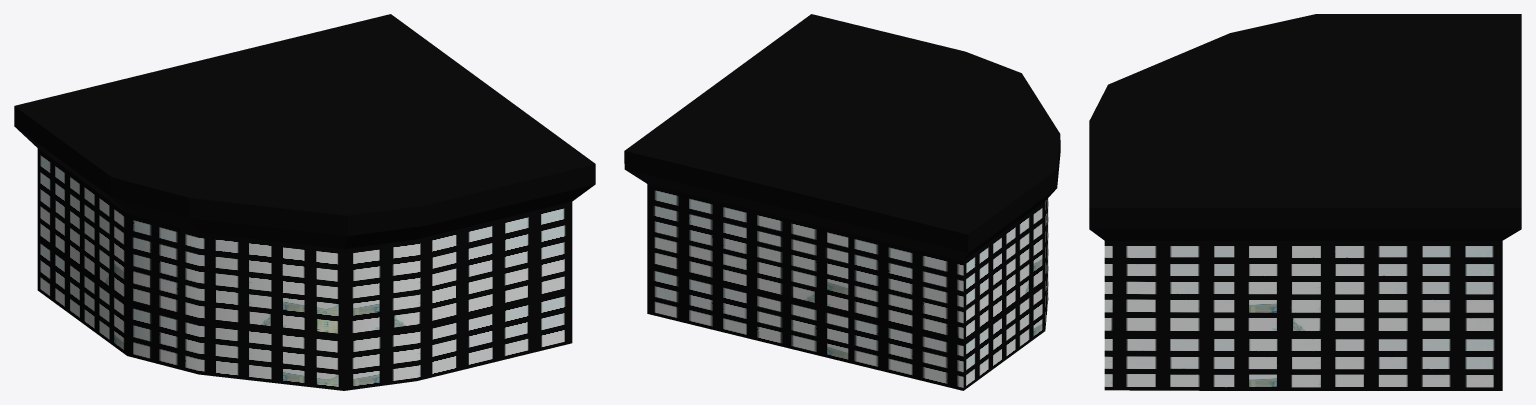
Rendered from building29.FBX.
3 renders of one model, left to right at view 1: azimuth 30°, elevation 25°; view 2: azimuth 150°, elevation 25°; view 3: azimuth 270°, elevation 25°, orthographic. The views are drawn at different scales.
Visible parts, largest first — view 1: Box003; view 2: Box003; view 3: Box003.
Part boxes in pixels (bbox=[...]): Box003: bbox=[14, 14, 595, 390]; Box003: bbox=[624, 14, 1060, 390]; Box003: bbox=[1089, 14, 1521, 390].
Size of the model in its own units: 302 by 139 by 284.
